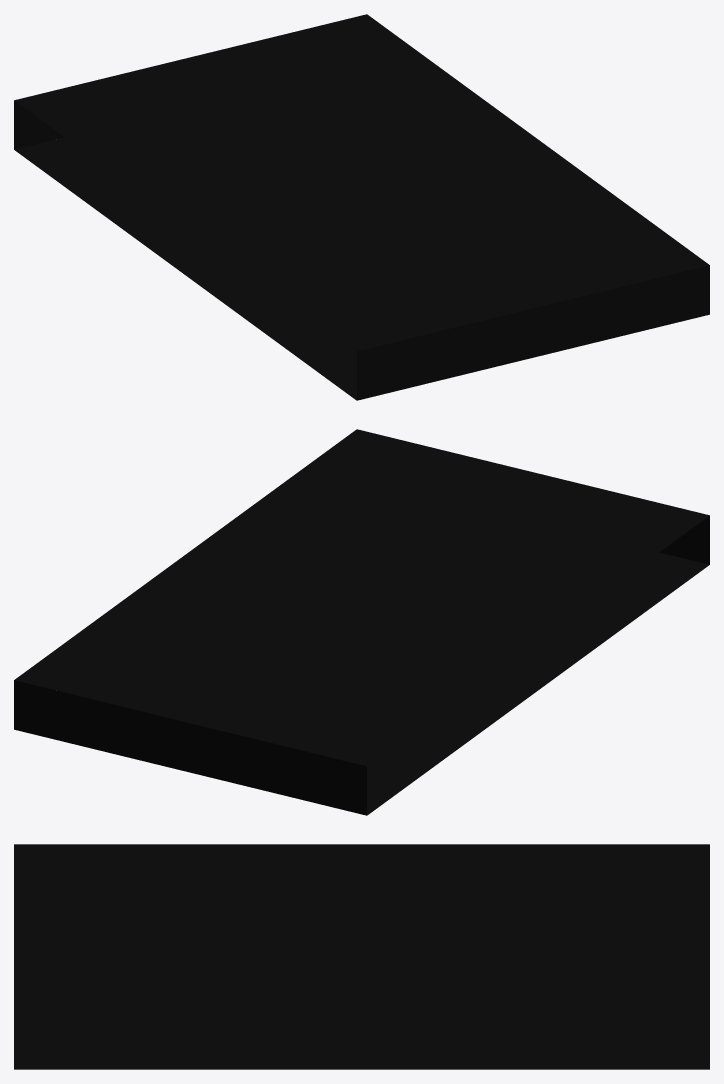
The model's file is Itr_Diningtable_Top_Middle_05.FBX.
3 renders of one model, top to bottom at view 1: azimuth 30°, elevation 25°; view 2: azimuth 150°, elevation 25°; view 3: azimuth 270°, elevation 25°, orthographic.
Parts seen in each view (by area): view 1: Itr_Diningtable_Top_Middle_05; view 2: Itr_Diningtable_Top_Middle_05; view 3: Itr_Diningtable_Top_Middle_05.
Boxes of the visible parts, <box> form: Itr_Diningtable_Top_Middle_05: <box>14,14,709,400</box>; Itr_Diningtable_Top_Middle_05: <box>14,429,709,815</box>; Itr_Diningtable_Top_Middle_05: <box>14,844,709,1069</box>.
Size of the model in its own units: 24.68 by 3.3 by 41.52.
